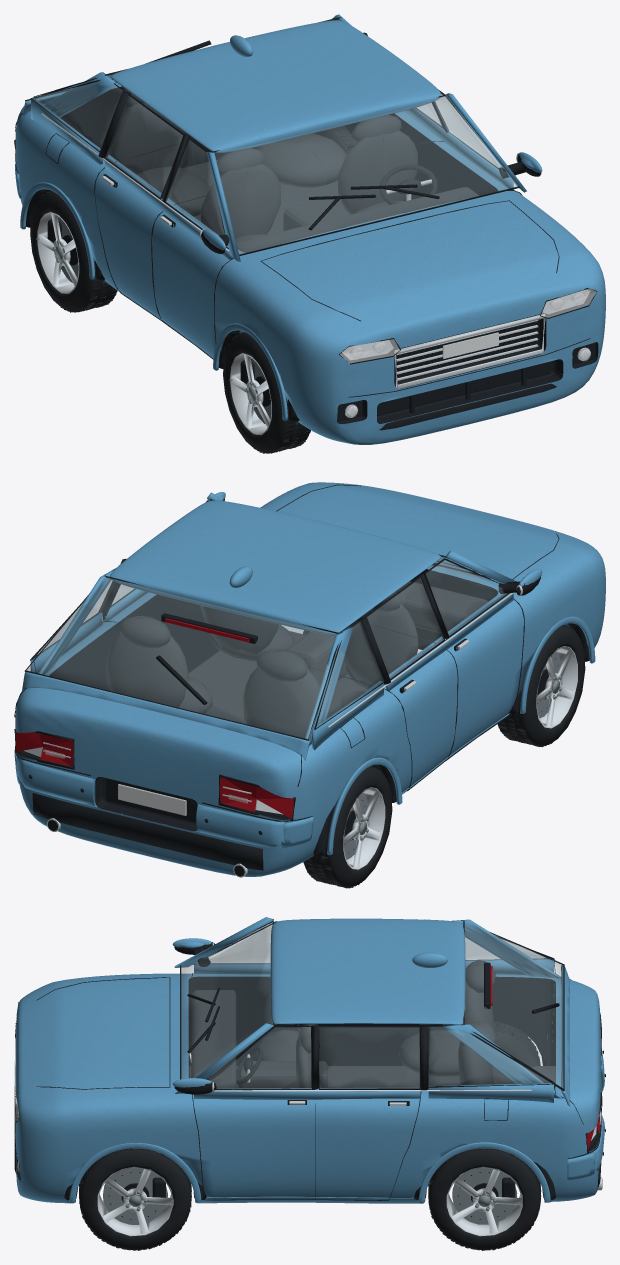
The model's file is campus-hatchback-medium.glb.
3 renders of one model, top to bottom at view 1: azimuth 30°, elevation 25°; view 2: azimuth 150°, elevation 25°; view 3: azimuth 270°, elevation 25°, orthographic. The views are drawn at different scales.
Visible parts, largest first — view 1: Body:paint, Body:glass, Body:interior, Body:black, Body:chrome, Wheel0:rubber, Wheel2:rubber, Wheel2:chrome, Wheel0:chrome, Body:frontlamp, Body:white; view 2: Body:paint, Body:glass, Body:interior, Body:black, Wheel2:rubber, Wheel0:rubber, Body:redlens, Wheel2:chrome, Wheel0:chrome, Body:chrome, Body:white; view 3: Body:paint, Body:glass, Body:black, Body:interior, Wheel1:rubber, Wheel3:rubber, Wheel3:chrome, Wheel1:chrome, Wheel3:steel, Wheel1:steel, Wheel2:rubber, Body:chrome.
Part boxes in pixels (x1=…): Body:paint: x1=15, y1=14, x2=605, y2=444; Body:glass: x1=27, y1=75, x2=517, y2=254; Body:interior: x1=109, y1=88, x2=479, y2=252; Body:black: x1=14, y1=17, x2=598, y2=430; Body:chrome: x1=41, y1=113, x2=590, y2=417; Wheel0:rubber: x1=223, y1=332, x2=310, y2=453; Wheel2:rubber: x1=30, y1=191, x2=117, y2=312; Wheel2:chrome: x1=37, y1=211, x2=79, y2=293; Wheel0:chrome: x1=230, y1=353, x2=271, y2=435; Body:frontlamp: x1=340, y1=288, x2=596, y2=363; Body:white: x1=442, y1=332, x2=498, y2=358; Body:paint: x1=14, y1=482, x2=605, y2=876; Body:glass: x1=26, y1=557, x2=506, y2=739; Body:interior: x1=106, y1=581, x2=488, y2=737; Body:black: x1=14, y1=484, x2=589, y2=876; Wheel2:rubber: x1=303, y1=766, x2=392, y2=888; Wheel0:rubber: x1=497, y1=625, x2=585, y2=747; Body:redlens: x1=15, y1=732, x2=293, y2=818; Wheel2:chrome: x1=343, y1=787, x2=385, y2=869; Wheel0:chrome: x1=536, y1=646, x2=577, y2=728; Body:chrome: x1=23, y1=585, x2=522, y2=877; Body:white: x1=118, y1=784, x2=186, y2=815; Body:paint: x1=15, y1=917, x2=604, y2=1203; Body:glass: x1=181, y1=922, x2=562, y2=1088; Body:black: x1=14, y1=920, x2=605, y2=1203; Body:interior: x1=188, y1=960, x2=555, y2=1089; Wheel1:rubber: x1=79, y1=1148, x2=191, y2=1250; Wheel3:rubber: x1=428, y1=1148, x2=541, y2=1250; Wheel3:chrome: x1=446, y1=1166, x2=522, y2=1236; Wheel1:chrome: x1=97, y1=1166, x2=173, y2=1236; Wheel3:steel: x1=452, y1=1168, x2=521, y2=1224; Wheel1:steel: x1=103, y1=1168, x2=171, y2=1224; Wheel2:rubber: x1=494, y1=1021, x2=540, y2=1067; Body:chrome: x1=15, y1=942, x2=601, y2=1190.
Bounding box in the file's own units: 2.04 × 1.54 × 3.56.
Materials: 12 (12 with a texture image).
